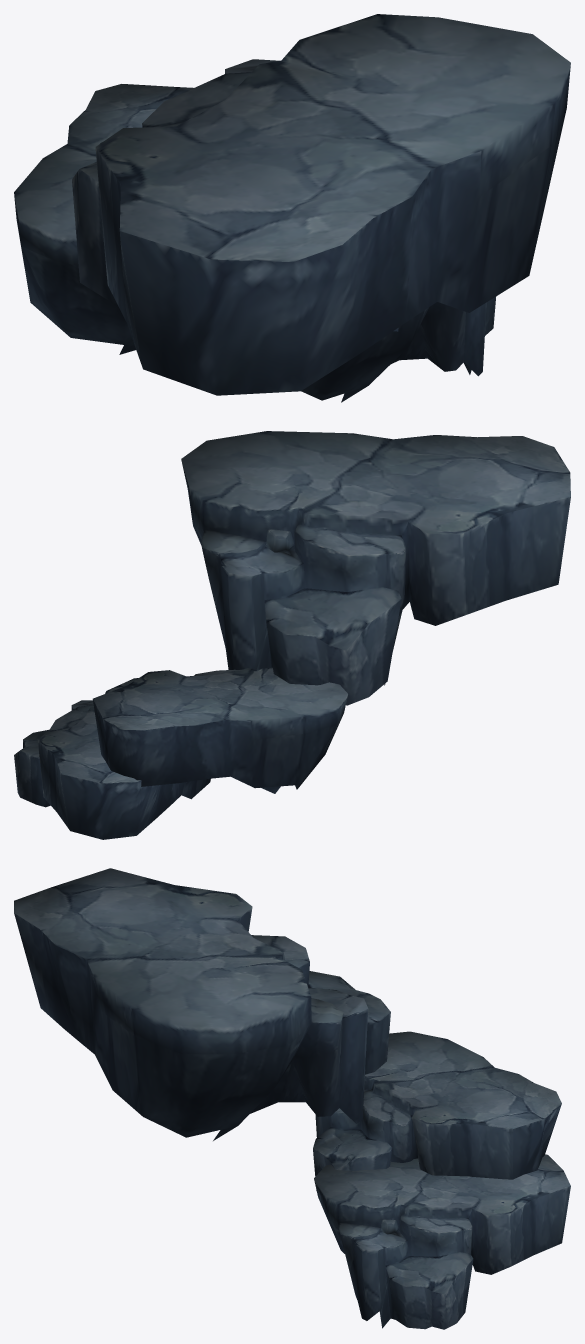
Rendered from Area_13_20.fbx.
3 renders of one model, top to bottom at view 1: azimuth 30°, elevation 25°; view 2: azimuth 150°, elevation 25°; view 3: azimuth 270°, elevation 25°, orthographic. The views are drawn at different scales.
Parts seen in each view (by area): view 1: Area_13_20; view 2: Area_13_20; view 3: Area_13_20.
Boxes of the visible parts, <box> form: Area_13_20: <box>14,14,570,402</box>; Area_13_20: <box>14,431,570,839</box>; Area_13_20: <box>14,868,570,1329</box>.
Size of the model in its own units: 2431 by 1685 by 2969.
